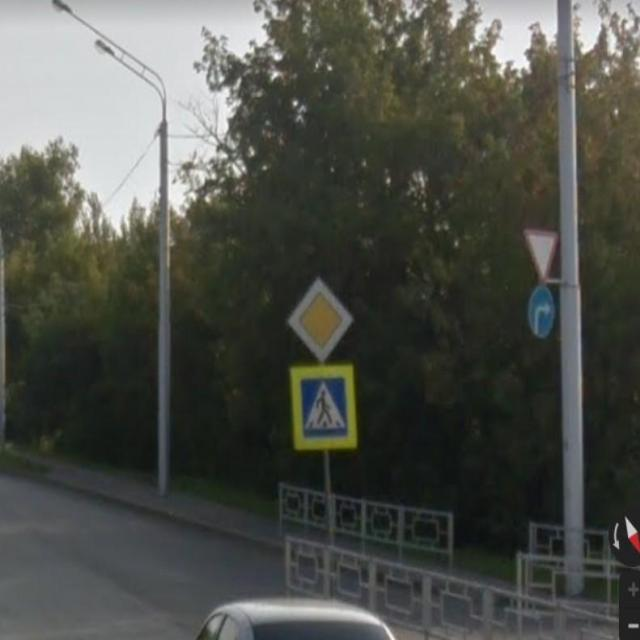Droga z pierwszenstwem: (282, 270, 358, 370)
Przejscie dla pieszych: (287, 358, 364, 454)
Ustap pierwszenstwa: (520, 221, 562, 285)
